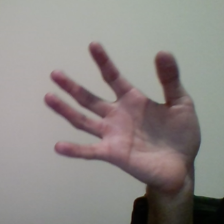left: (35, 33, 213, 196)
